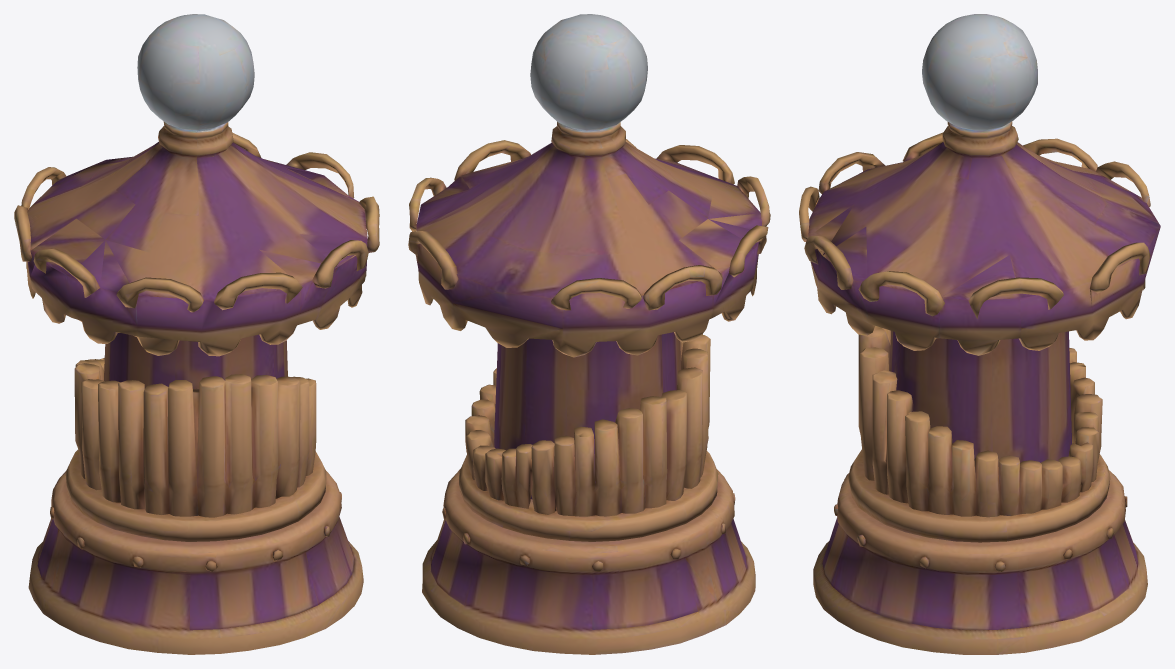
Rendered from tesla@calliope.glb.
3 renders of one model, left to right at view 1: azimuth 30°, elevation 25°; view 2: azimuth 150°, elevation 25°; view 3: azimuth 270°, elevation 25°, orthographic.
Parts seen in each view (by area): view 1: tesla; view 2: tesla; view 3: tesla.
Boxes of the visible parts, x1,y1,x2,y2 form: tesla: [14, 14, 379, 654]; tesla: [408, 14, 770, 654]; tesla: [799, 14, 1160, 654].
Bounding box in the file's own units: 1.34 × 2.3 × 1.34.
1 material, 1 textured.
